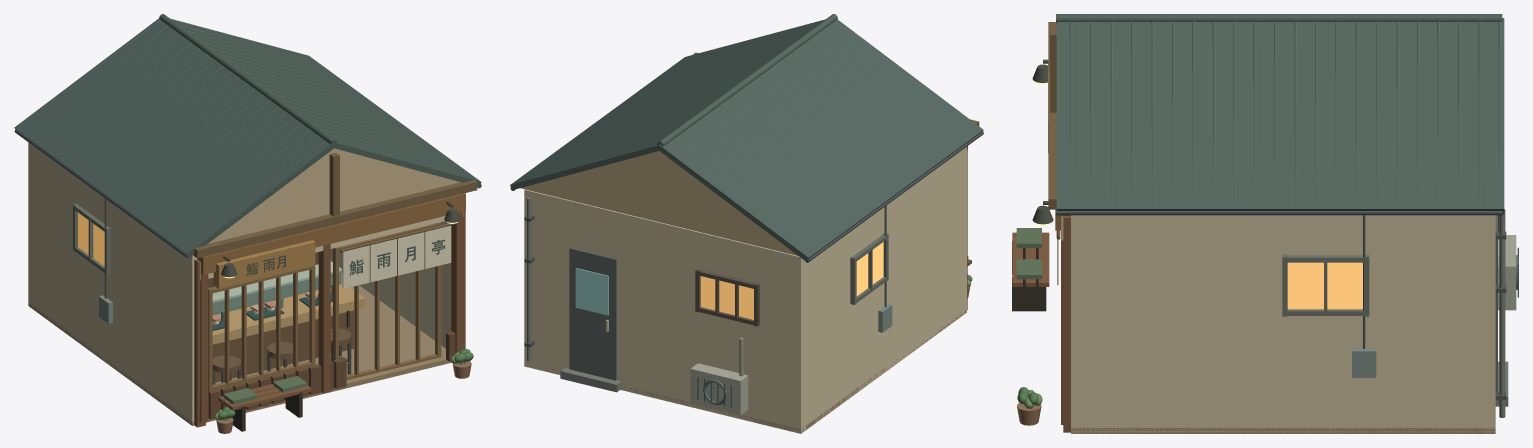
Rendered from sushi.glb.
3 views of the same model, side by side, from view 1: azimuth 30°, elevation 25°; view 2: azimuth 150°, elevation 25°; view 3: azimuth 270°, elevation 25° (orthographic). The views are drawn at different scales.
Visible parts, largest first — view 1: 雨月寿司店, Group_302; view 2: 雨月寿司店, Group_277, Group_302; view 3: 雨月寿司店, Group_311, Group_277.
Boxes of the visible parts, box(x1,y1,x2,y2) form: 雨月寿司店: box(14, 14, 481, 433); Group_302: box(73, 198, 112, 323); 雨月寿司店: box(510, 14, 983, 433); Group_277: box(524, 197, 759, 415); Group_302: box(850, 205, 892, 332); 雨月寿司店: box(1012, 14, 1504, 433); Group_311: box(1282, 215, 1376, 377); Group_277: box(1495, 209, 1518, 417).
Bounding box in the file's own units: 5.4 × 4.5 × 6.2.
70 materials, 5 textured.
